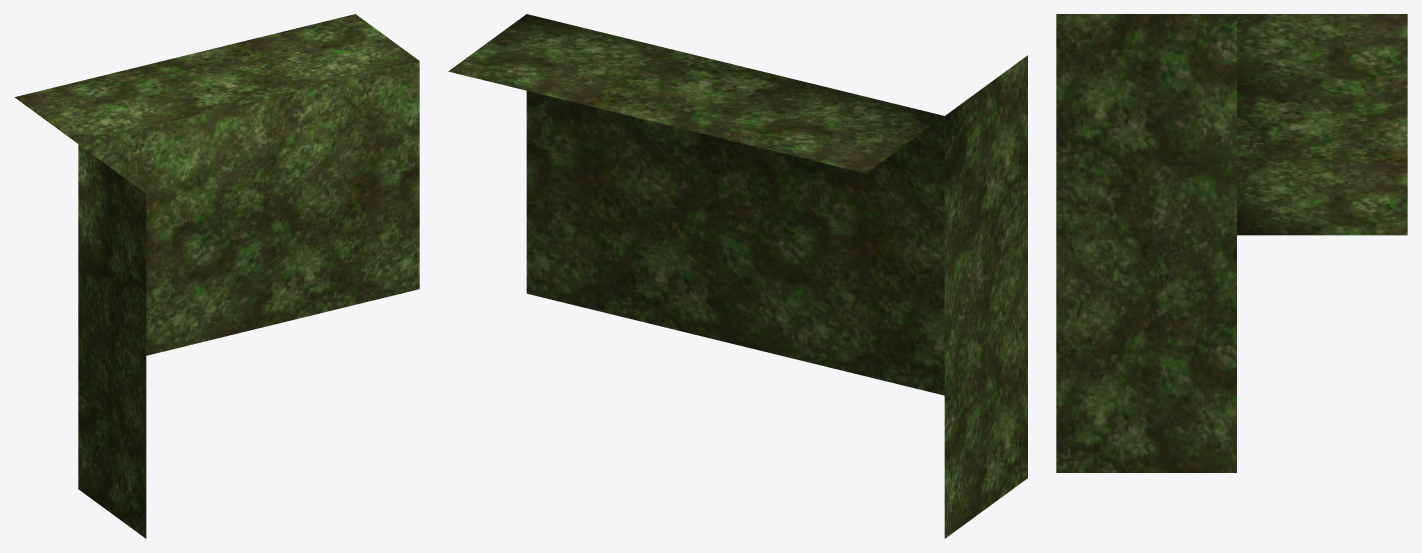
The model's file is OVERHILL_A_01_OBJECT80.fbx.
3 views of the same model, side by side, from view 1: azimuth 30°, elevation 25°; view 2: azimuth 150°, elevation 25°; view 3: azimuth 270°, elevation 25° (orthographic). The views are drawn at different scales.
Visible parts, largest first — view 1: OVERHILL_A_01_OBJECT80; view 2: OVERHILL_A_01_OBJECT80; view 3: OVERHILL_A_01_OBJECT80.
Boxes of the visible parts, bbox=[...] form: OVERHILL_A_01_OBJECT80: bbox=[14, 14, 419, 538]; OVERHILL_A_01_OBJECT80: bbox=[448, 14, 1027, 538]; OVERHILL_A_01_OBJECT80: bbox=[1056, 14, 1407, 472].
Bounding box in the file's own units: 48951 × 47322 × 32795.
Materials: 1 (1 with a texture image).
